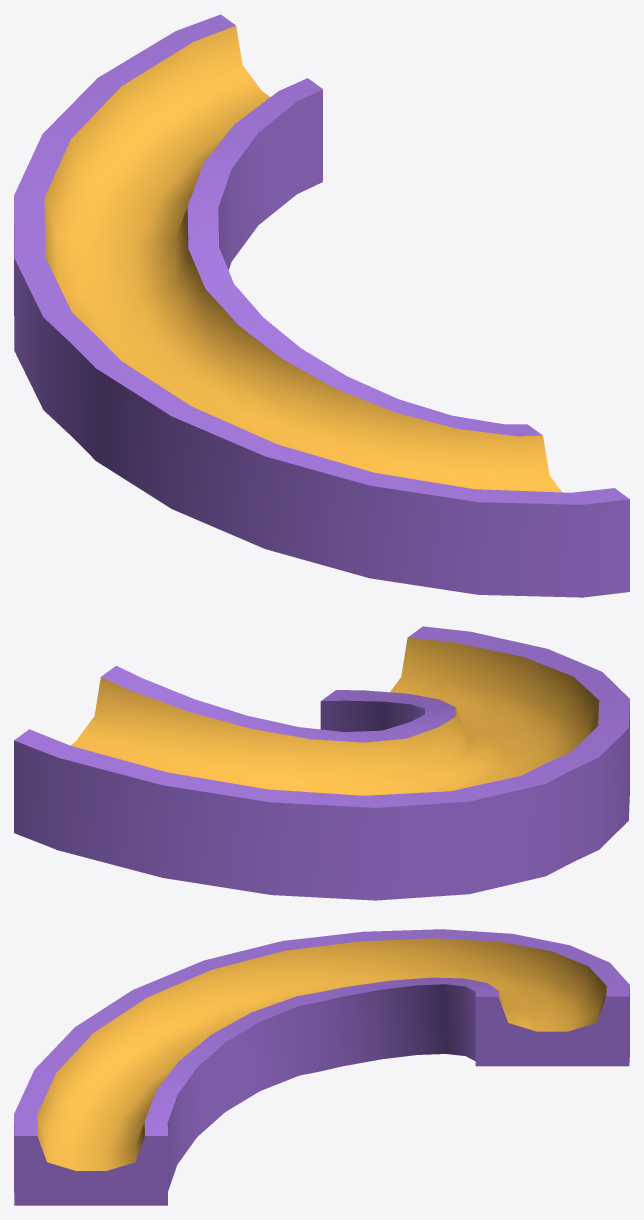
The model's file is helix-half-right.glb.
3 renders of one model, top to bottom at view 1: azimuth 30°, elevation 25°; view 2: azimuth 150°, elevation 25°; view 3: azimuth 270°, elevation 25°, orthographic. The views are drawn at different scales.
Parts seen in each view (by area): view 1: helix-half-right; view 2: helix-half-right; view 3: helix-half-right.
Part boxes in pixels (x1,y1,x2,y2): helix-half-right: (14,14,629,597); helix-half-right: (14,626,629,900); helix-half-right: (14,929,629,1205).
Bounding box in the file's own units: 2 × 1.5 × 4.01.
Materials: 1 (1 with a texture image).
